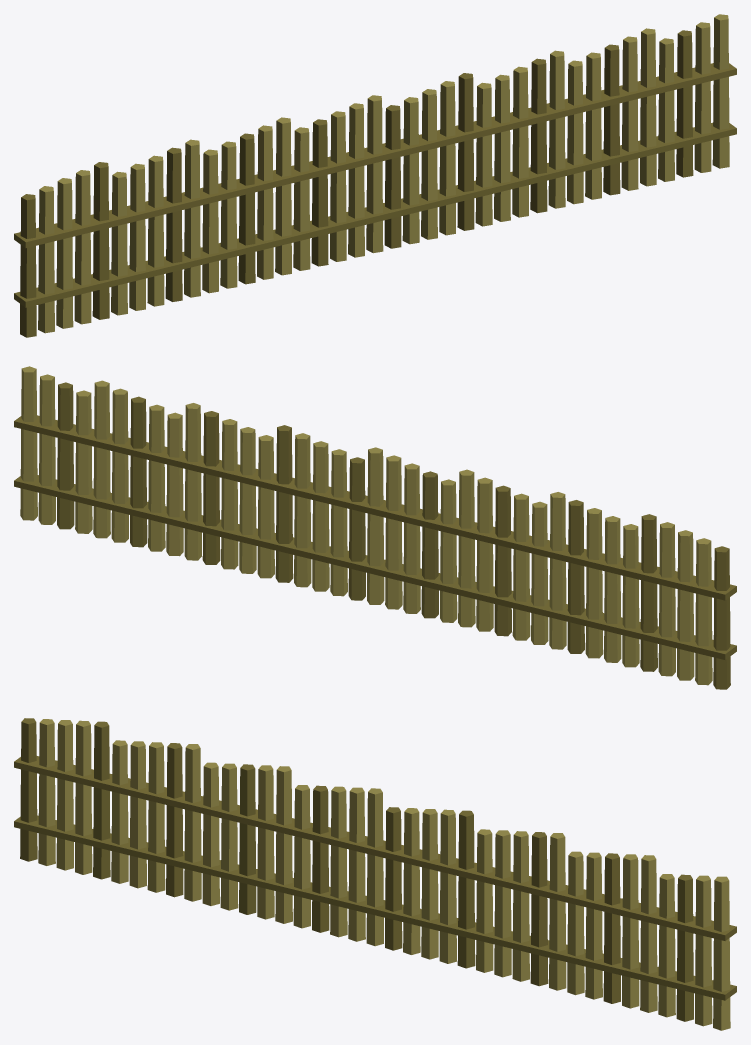
File: frog_wall_broken.glb
3 views of the same model, one above another, from view 1: azimuth 30°, elevation 25°; view 2: azimuth 150°, elevation 25°; view 3: azimuth 330°, elevation 25° (orthographic).
Parts seen in each view (by area): view 1: frog_wall_piece4, frog_wall_piece9, frog_wall_piece7, frog_wall_piece6, frog_wall_piece2, frog_wall_piece5, frog_wall_piece1, frog_wall_piece3, frog_wall_piece0, frog_wall_piece8, frog_wall_piece13, frog_wall_piece11 (+2 smaller); view 2: frog_wall_piece4, frog_wall_piece9, frog_wall_piece7, frog_wall_piece6, frog_wall_piece5, frog_wall_piece3, frog_wall_piece2, frog_wall_piece1, frog_wall_piece8, frog_wall_piece13, frog_wall_piece0, frog_wall_piece11 (+2 smaller); view 3: frog_wall_piece4, frog_wall_piece7, frog_wall_piece6, frog_wall_piece9, frog_wall_piece5, frog_wall_piece2, frog_wall_piece1, frog_wall_piece3, frog_wall_piece0, frog_wall_piece8, frog_wall_piece13, frog_wall_piece11 (+2 smaller).
Boxes of the visible parts, box(x1,y1,x2,y2) form: frog_wall_piece4: box(225, 111, 344, 279); frog_wall_piece9: box(14, 179, 113, 337); frog_wall_piece7: box(630, 14, 736, 176); frog_wall_piece6: box(328, 91, 443, 261); frog_wall_piece2: box(423, 61, 545, 221); frog_wall_piece5: box(148, 139, 266, 296); frog_wall_piece1: box(510, 96, 674, 216); frog_wall_piece3: box(366, 123, 498, 252); frog_wall_piece0: box(117, 163, 198, 304); frog_wall_piece8: box(561, 77, 689, 179); frog_wall_piece13: box(61, 162, 162, 304); frog_wall_piece11: box(528, 50, 613, 110); frog_wall_piece4: box(406, 463, 522, 631); frog_wall_piece9: box(626, 530, 736, 689); frog_wall_piece7: box(14, 366, 130, 527); frog_wall_piece6: box(305, 446, 421, 613); frog_wall_piece5: box(488, 492, 601, 647); frog_wall_piece3: box(241, 473, 389, 609); frog_wall_piece2: box(212, 411, 328, 571); frog_wall_piece1: box(90, 449, 235, 569); frog_wall_piece8: box(59, 428, 197, 538); frog_wall_piece13: box(580, 514, 683, 661); frog_wall_piece0: box(551, 516, 638, 653); frog_wall_piece11: box(132, 403, 220, 475); frog_wall_piece4: box(227, 763, 344, 932); frog_wall_piece7: box(618, 857, 736, 1030); frog_wall_piece6: box(326, 787, 438, 943); frog_wall_piece9: box(14, 718, 111, 877); frog_wall_piece5: box(149, 742, 259, 917); frog_wall_piece2: box(422, 809, 538, 979); frog_wall_piece1: box(515, 867, 669, 1017); frog_wall_piece3: box(365, 853, 494, 972); frog_wall_piece0: box(112, 741, 190, 900); frog_wall_piece8: box(554, 885, 681, 1020); frog_wall_piece13: box(68, 720, 165, 891); frog_wall_piece11: box(530, 832, 607, 891).
Size of the model in its own units: 6.25 by 1.27 by 0.18.
